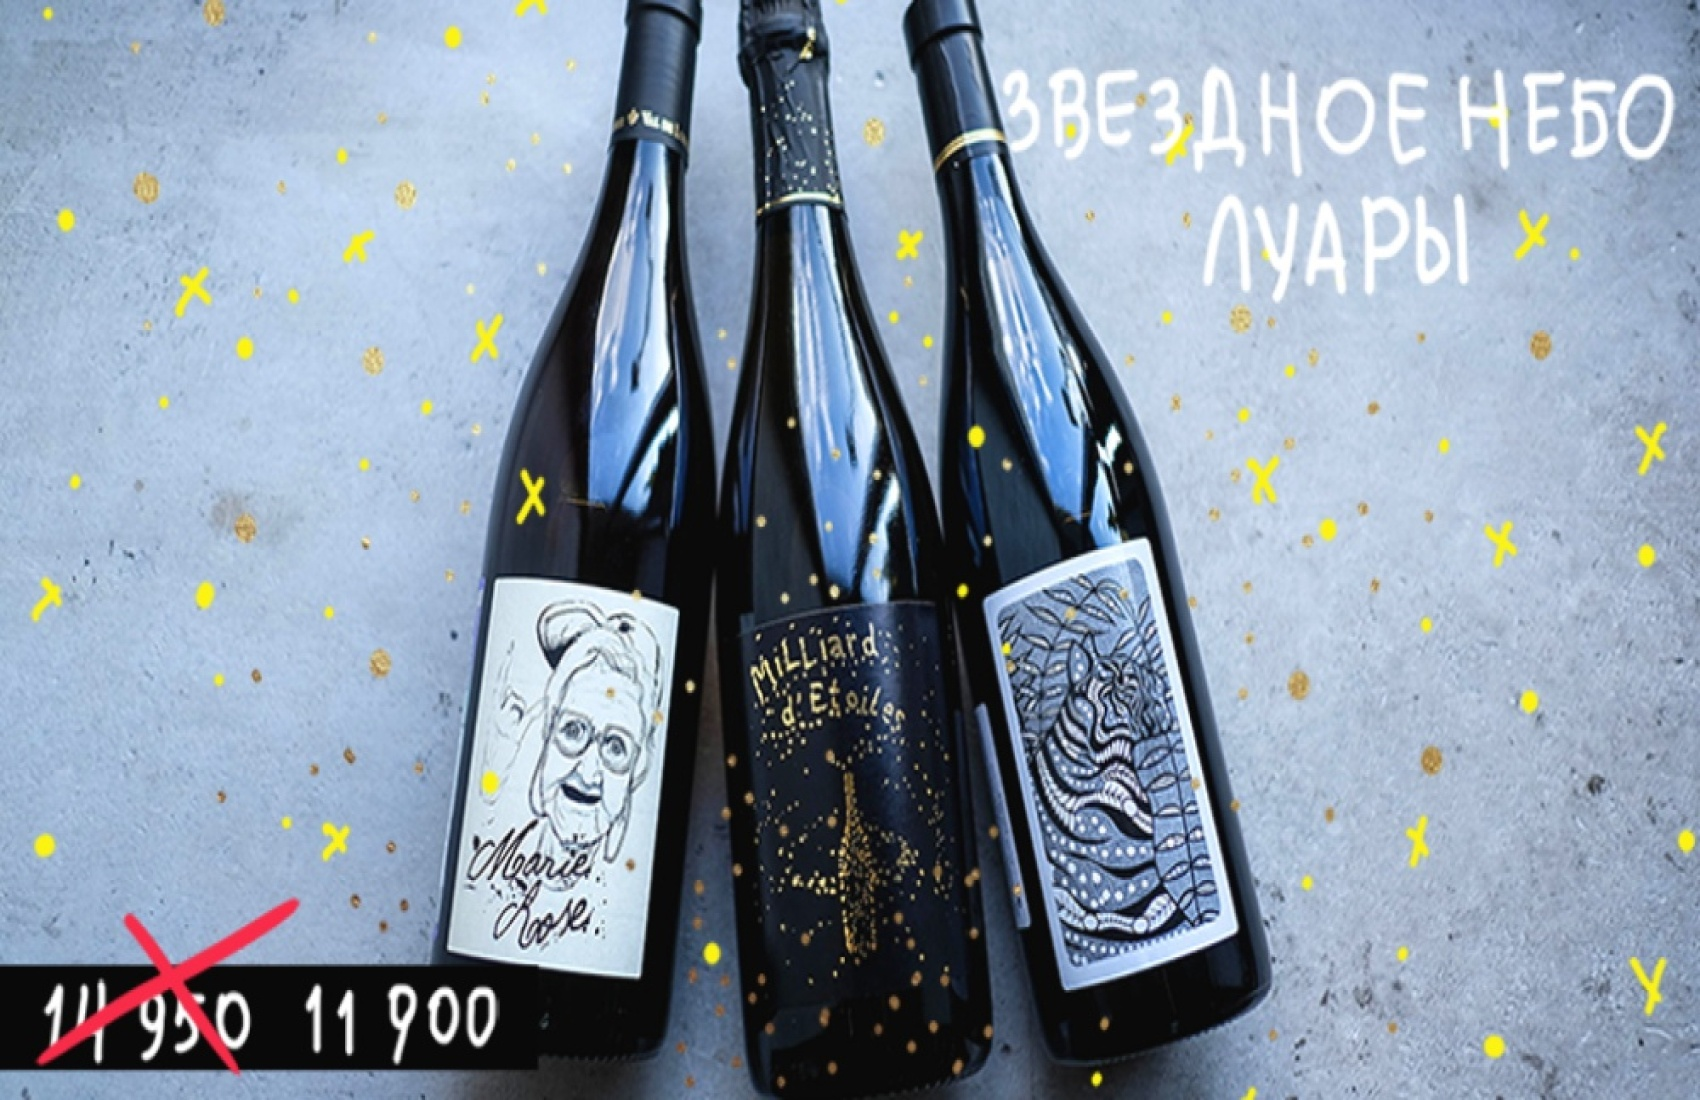wine: (969, 15, 1268, 1027), (451, 1, 711, 1064), (711, 20, 968, 1090)
